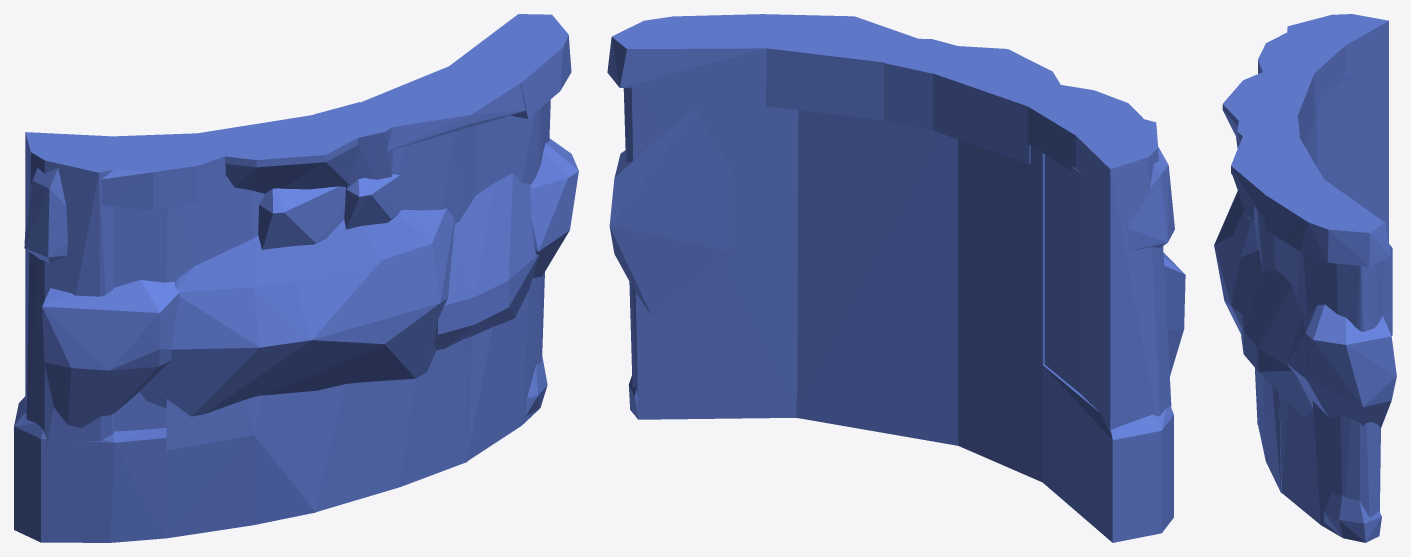
File: Cliff_Wall_Out_02_Collider_01.FBX
3 renders of one model, left to right at view 1: azimuth 30°, elevation 25°; view 2: azimuth 150°, elevation 25°; view 3: azimuth 270°, elevation 25°, orthographic. The views are drawn at different scales.
Parts seen in each view (by area): view 1: COLLIDER13, COLLIDER1, COLLIDER11, COLLIDER2, COLLIDER3, COLLIDER7, COLLIDER12, COLLIDER15, COLLIDER6, COLLIDER4, COLLIDER9, COLLIDER10 (+7 smaller); view 2: COLLIDER11, COLLIDER12, COLLIDER1, COLLIDER3, COLLIDER14, COLLIDER2, COLLIDER9, COLLIDER10, COLLIDER6, COLLIDER5, COLLIDER4, COLLIDER8 (+2 smaller); view 3: COLLIDER12, COLLIDER14, COLLIDER3, COLLIDER10, COLLIDER15, COLLIDER9, COLLIDER6, COLLIDER13, COLLIDER5, COLLIDER4, COLLIDER11, COLLIDER19 (+4 smaller).
Boxes of the visible parts, x1=… form: COLLIDER13: x1=139, y1=208, x2=454, y2=416; COLLIDER1: x1=166, y1=175, x2=316, y2=538; COLLIDER11: x1=316, y1=125, x2=476, y2=511; COLLIDER2: x1=14, y1=396, x2=166, y2=542; COLLIDER3: x1=25, y1=132, x2=113, y2=454; COLLIDER7: x1=42, y1=280, x2=180, y2=427; COLLIDER12: x1=468, y1=99, x2=550, y2=460; COLLIDER15: x1=433, y1=173, x2=539, y2=349; COLLIDER6: x1=198, y1=114, x2=357, y2=193; COLLIDER4: x1=101, y1=132, x2=225, y2=209; COLLIDER9: x1=361, y1=66, x2=525, y2=151; COLLIDER10: x1=450, y1=14, x2=571, y2=118; COLLIDER11: x1=796, y1=110, x2=958, y2=445; COLLIDER12: x1=623, y1=86, x2=798, y2=419; COLLIDER1: x1=958, y1=139, x2=1044, y2=482; COLLIDER3: x1=1075, y1=118, x2=1171, y2=432; COLLIDER14: x1=609, y1=109, x2=732, y2=316; COLLIDER2: x1=1042, y1=364, x2=1173, y2=542; COLLIDER9: x1=764, y1=14, x2=917, y2=120; COLLIDER10: x1=607, y1=14, x2=766, y2=87; COLLIDER6: x1=932, y1=46, x2=1060, y2=163; COLLIDER5: x1=1045, y1=154, x2=1081, y2=393; COLLIDER4: x1=1019, y1=85, x2=1143, y2=170; COLLIDER8: x1=883, y1=38, x2=958, y2=130; COLLIDER12: x1=1274, y1=235, x2=1383, y2=538; COLLIDER14: x1=1287, y1=304, x2=1396, y2=427; COLLIDER3: x1=1287, y1=14, x2=1388, y2=243; COLLIDER10: x1=1264, y1=179, x2=1390, y2=266; COLLIDER15: x1=1241, y1=269, x2=1313, y2=418; COLLIDER9: x1=1231, y1=136, x2=1324, y2=219; COLLIDER6: x1=1222, y1=72, x2=1314, y2=146; COLLIDER13: x1=1214, y1=191, x2=1264, y2=379; COLLIDER5: x1=1316, y1=70, x2=1351, y2=198; COLLIDER4: x1=1258, y1=32, x2=1344, y2=104; COLLIDER11: x1=1254, y1=206, x2=1281, y2=493; COLLIDER19: x1=1324, y1=491, x2=1381, y2=542.
Bounding box in the file's own units: 1018 × 661 × 346.
